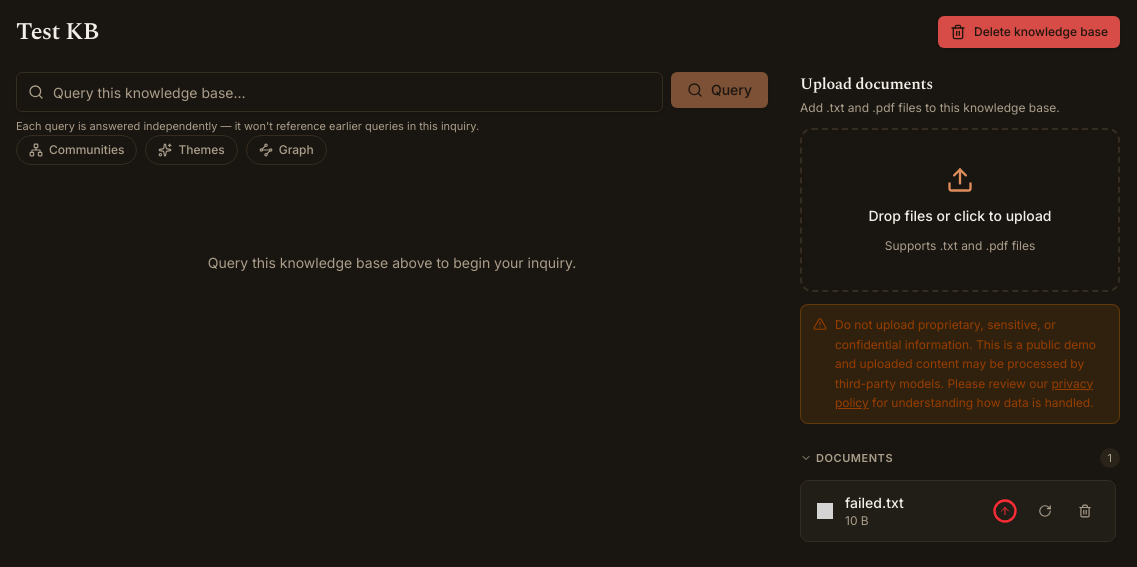
Test: KBDetailPage › documents panel › retries a failed document and reflects its updated status
Expected: the text "failed.txt" is shown, x1=845 y1=494 x2=904 y2=511
Click the 1st button named "retry indexing" at coordinates (1045, 511), box x1=1031 y1=497 x2=1059 y2=525
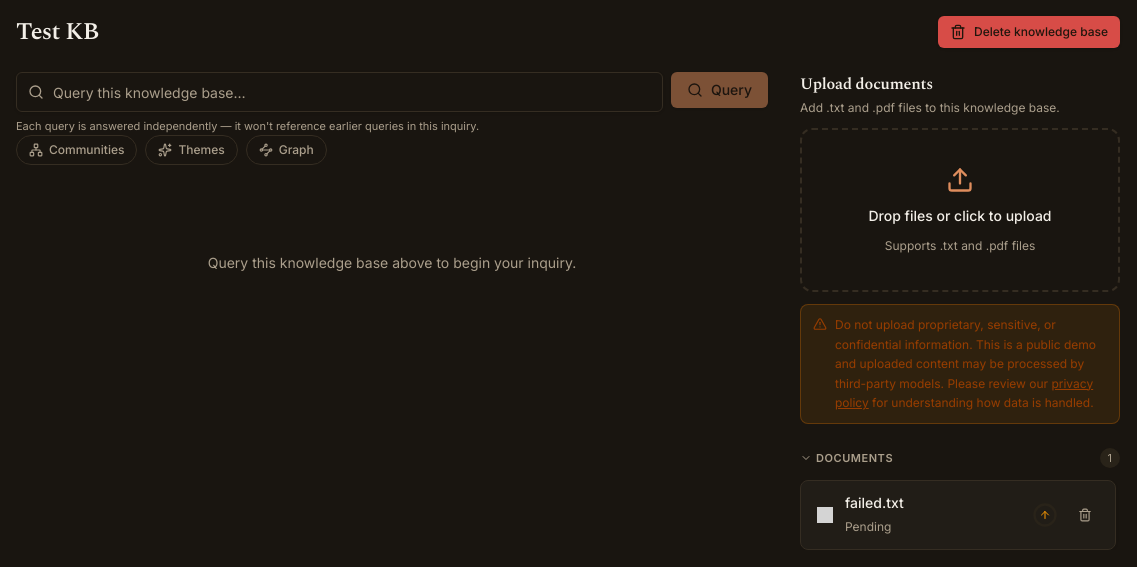
Now the text "Pending" is shown, box x1=845 y1=519 x2=891 y2=534
